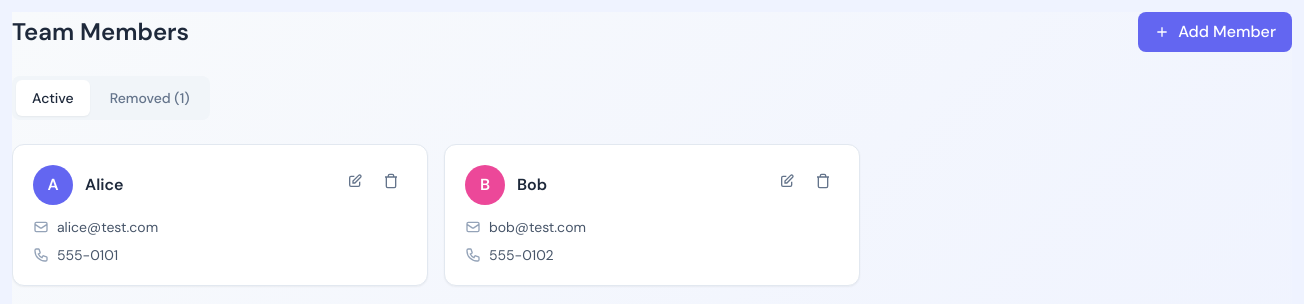
Scenario: ContactsPage › tab switch shows removed members from the selected region
Expected: the heading "Alice" is shown, [85,173,123,197]
Click the button "Removed (1)" at (150, 98), box [94,80,206,116]
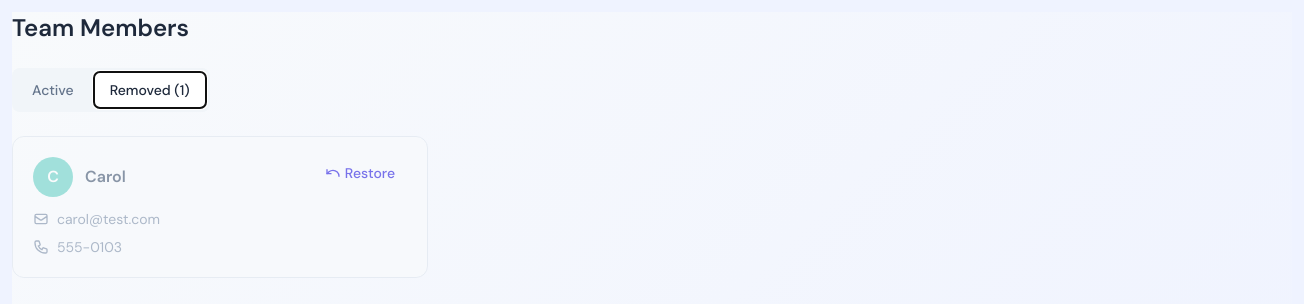
Now the heading "Carol" is shown, box [85,165,126,189]
